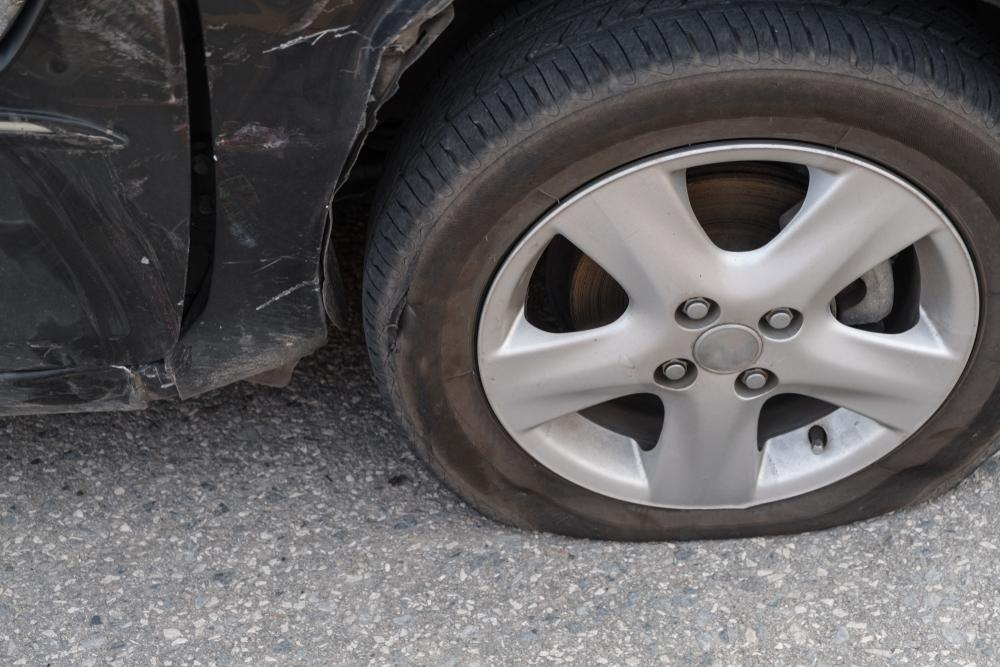tire flat: (357, 0, 1000, 542)
